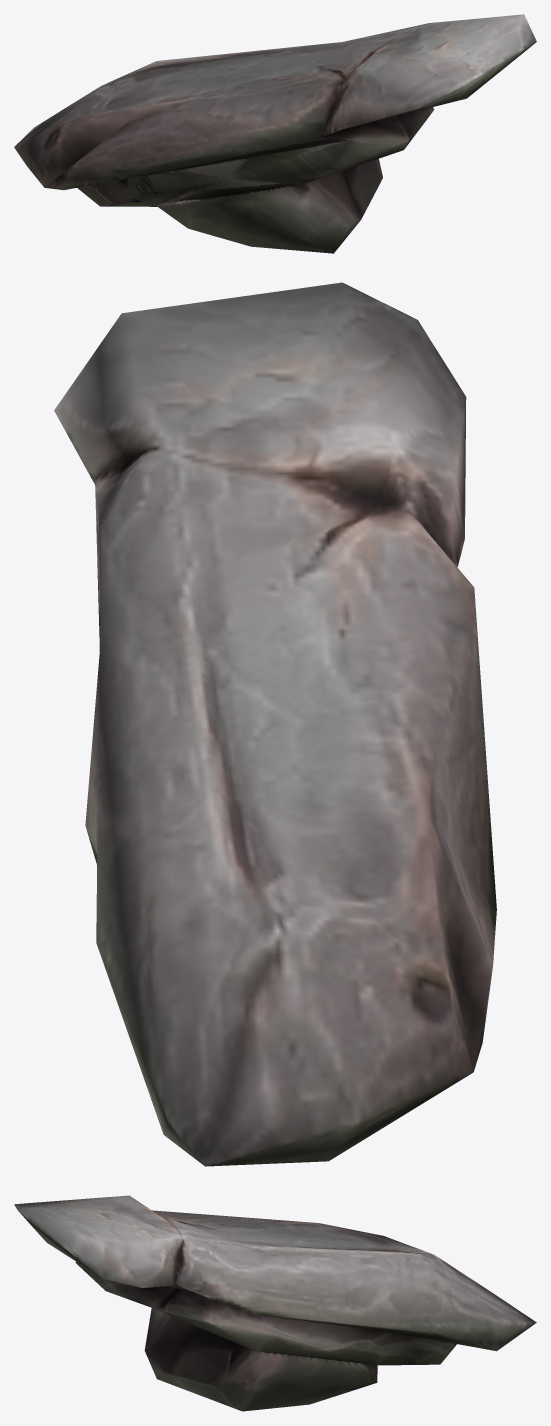
File: Big 5.fbx
3 renders of one model, top to bottom at view 1: azimuth 30°, elevation 25°; view 2: azimuth 150°, elevation 25°; view 3: azimuth 270°, elevation 25°, orthographic. The views are drawn at different scales.
Parts seen in each view (by area): view 1: Big_5; view 2: Big_5; view 3: Big_5.
Part boxes in pixels (x1=…): Big_5: x1=14, y1=14, x2=536, y2=253; Big_5: x1=54, y1=282, x2=496, y2=1166; Big_5: x1=14, y1=1195, x2=536, y2=1411.
Size of the model in its own units: 501 by 315 by 679.
